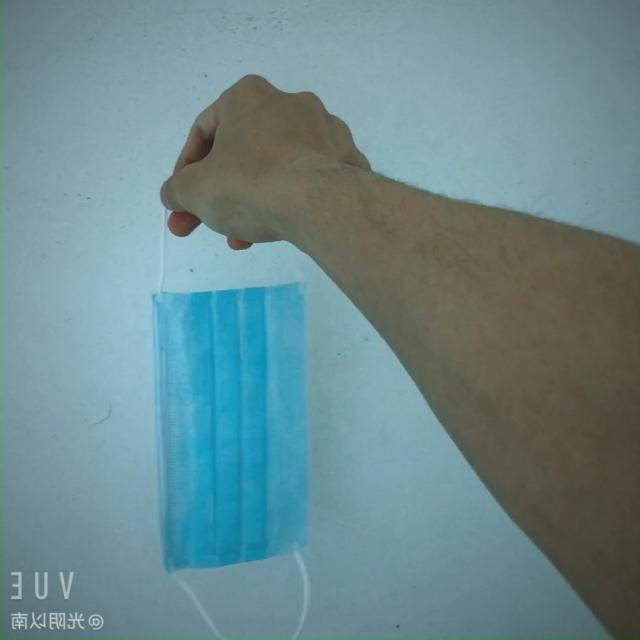face mask: (134, 282, 338, 568)
